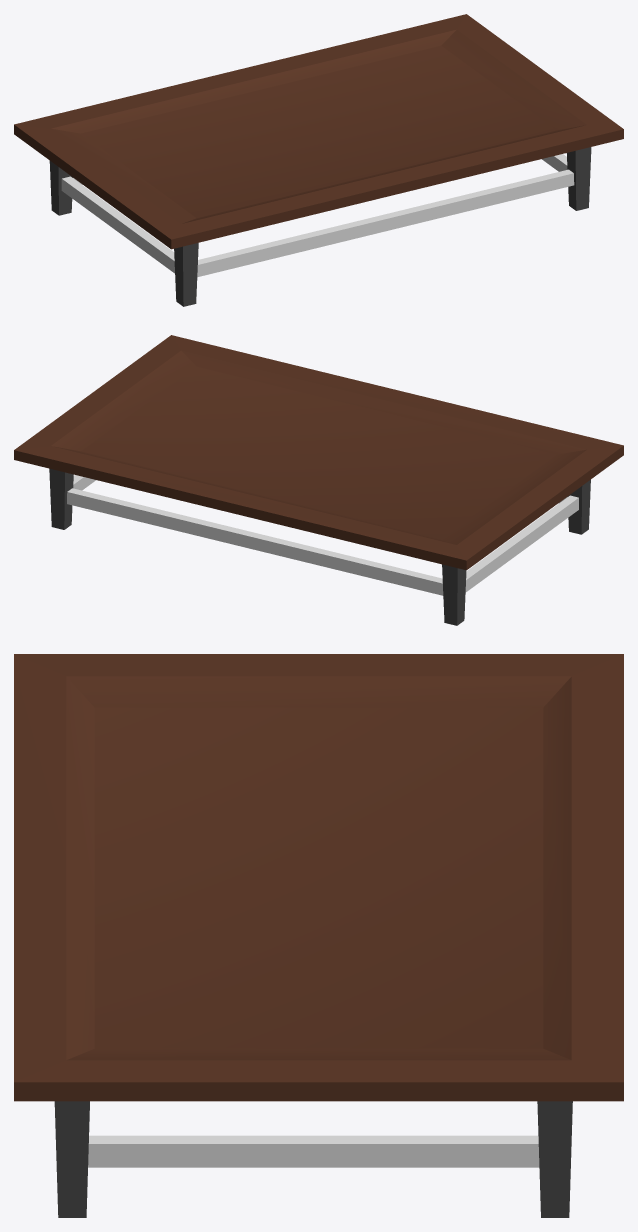
3 views of the same model, one above another, from view 1: azimuth 30°, elevation 25°; view 2: azimuth 150°, elevation 25°; view 3: azimuth 270°, elevation 25° (orthographic). The views are drawn at different scales.
Parts seen in each view (by area): view 1: coffee_table_012; view 2: coffee_table_012; view 3: coffee_table_012.
Part boxes in pixels (bbox=[...]): coffee_table_012: bbox=[14, 14, 623, 306]; coffee_table_012: bbox=[14, 335, 623, 625]; coffee_table_012: bbox=[14, 654, 623, 1217].
Bounding box in the file's own units: 1.72 × 0.2952 × 1.03.
